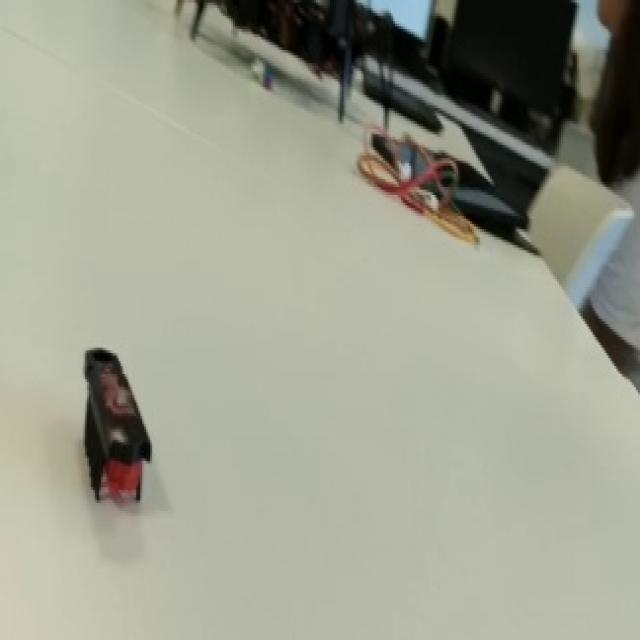2_NanoBug_Negro: (59, 308, 168, 542)
